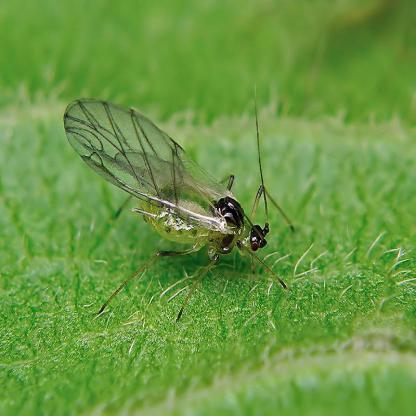aphid: (54, 77, 314, 327)
